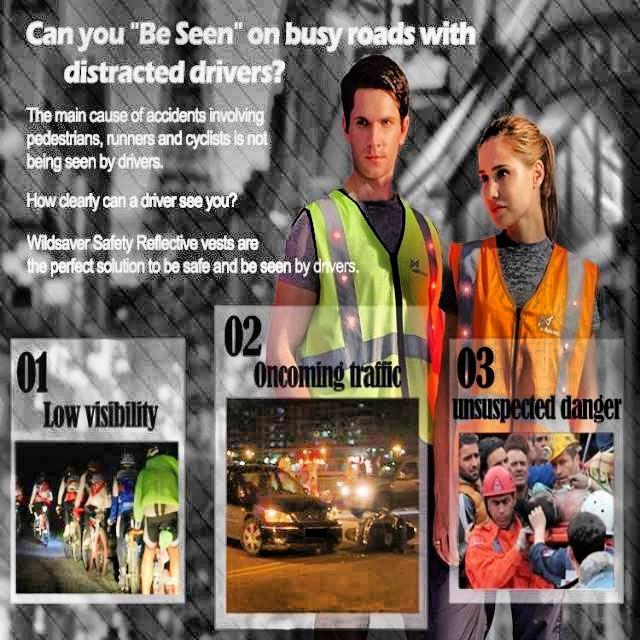safety_helmet: (481, 466, 519, 508), (544, 431, 584, 463)
safety_jacket: (301, 191, 435, 396), (454, 242, 590, 340)
